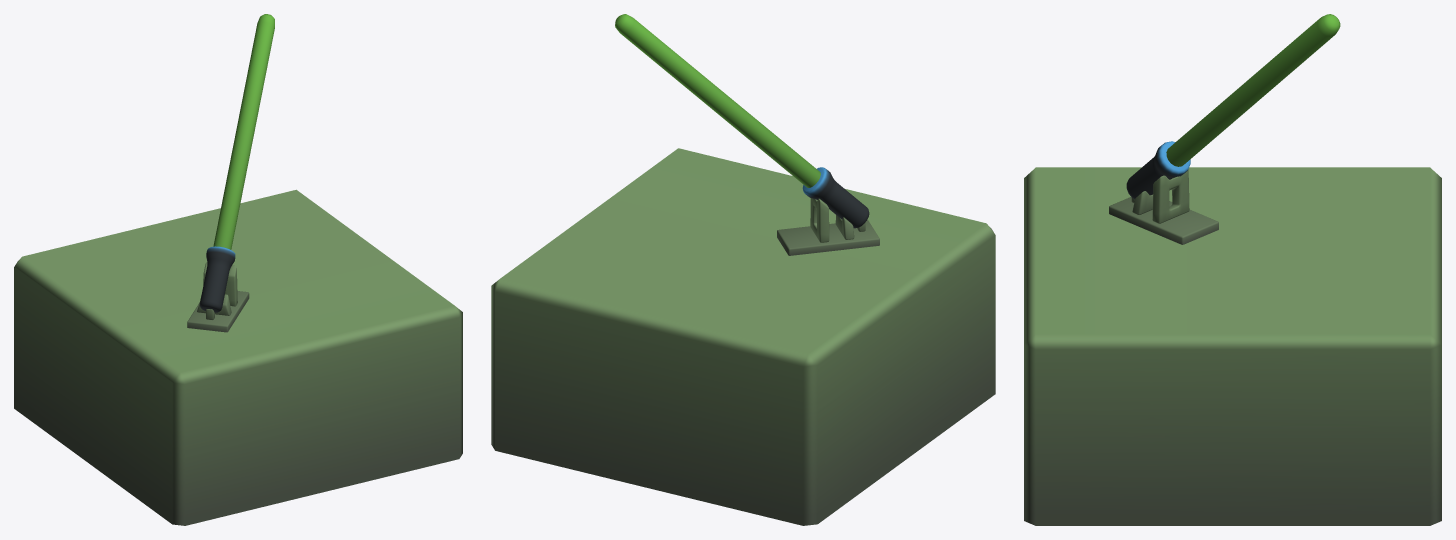
Rendered from Light_saber_Orange.fbx.
3 views of the same model, side by side, from view 1: azimuth 30°, elevation 25°; view 2: azimuth 150°, elevation 25°; view 3: azimuth 270°, elevation 25° (orthographic). The views are drawn at different scales.
Visible parts, largest first — view 1: Light saber; view 2: Light saber; view 3: Light saber.
Boxes of the visible parts, x1,y1,x2,y2 form: Light saber: (14, 14, 462, 525); Light saber: (491, 14, 995, 525); Light saber: (1024, 14, 1441, 525).
Bounding box in the file's own units: 79.47 × 97.18 × 79.47.
